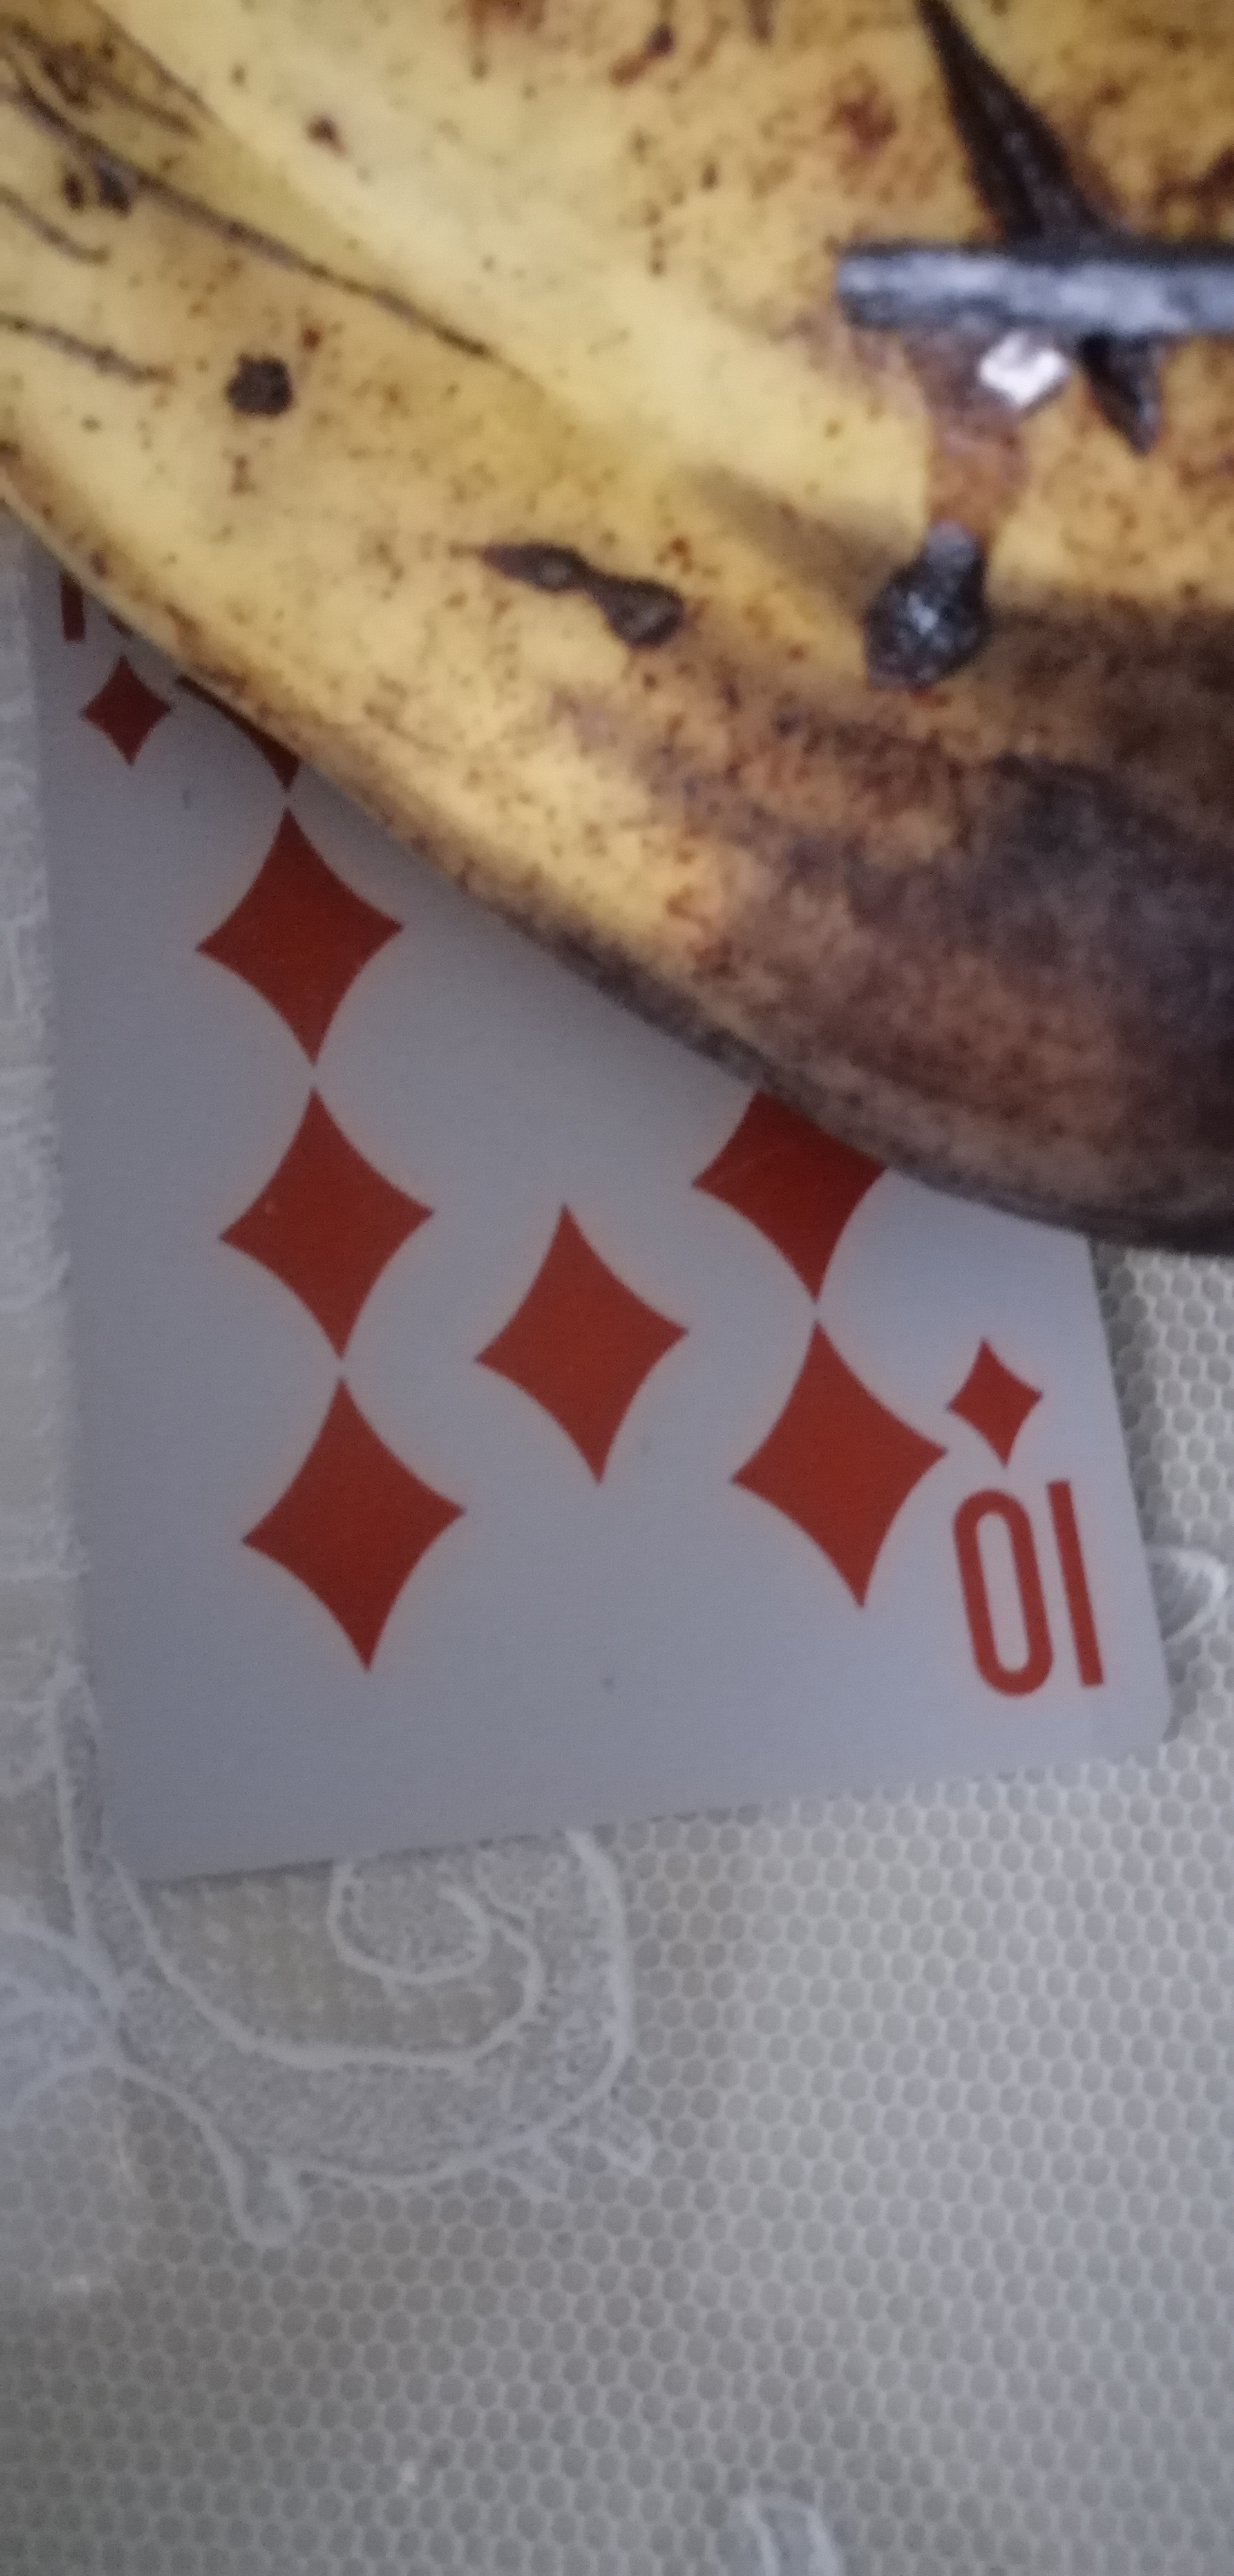ten: (3, 542, 1173, 1914)
